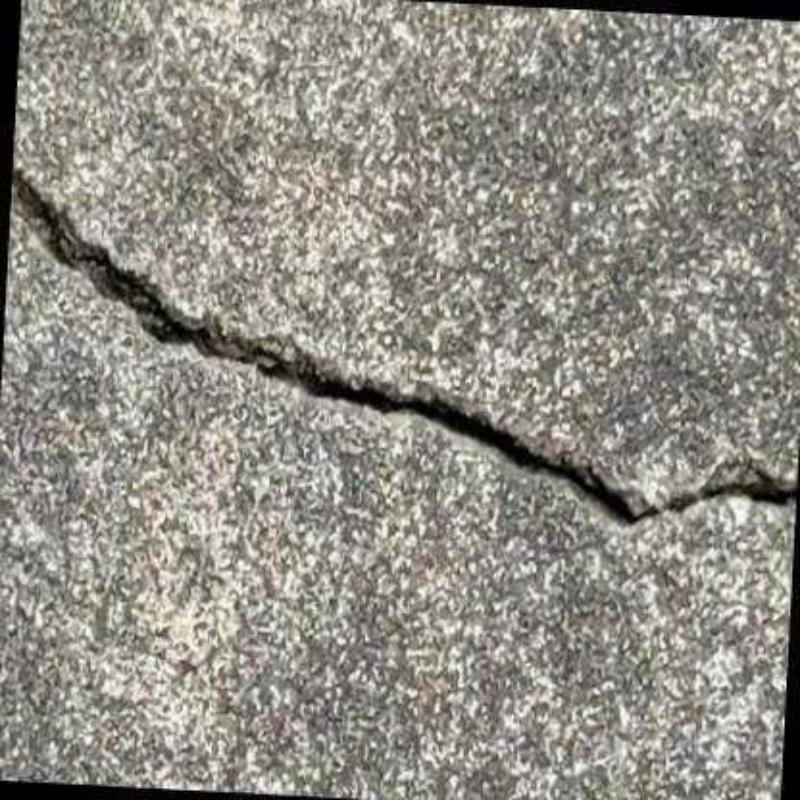crack: (11, 173, 798, 530)
